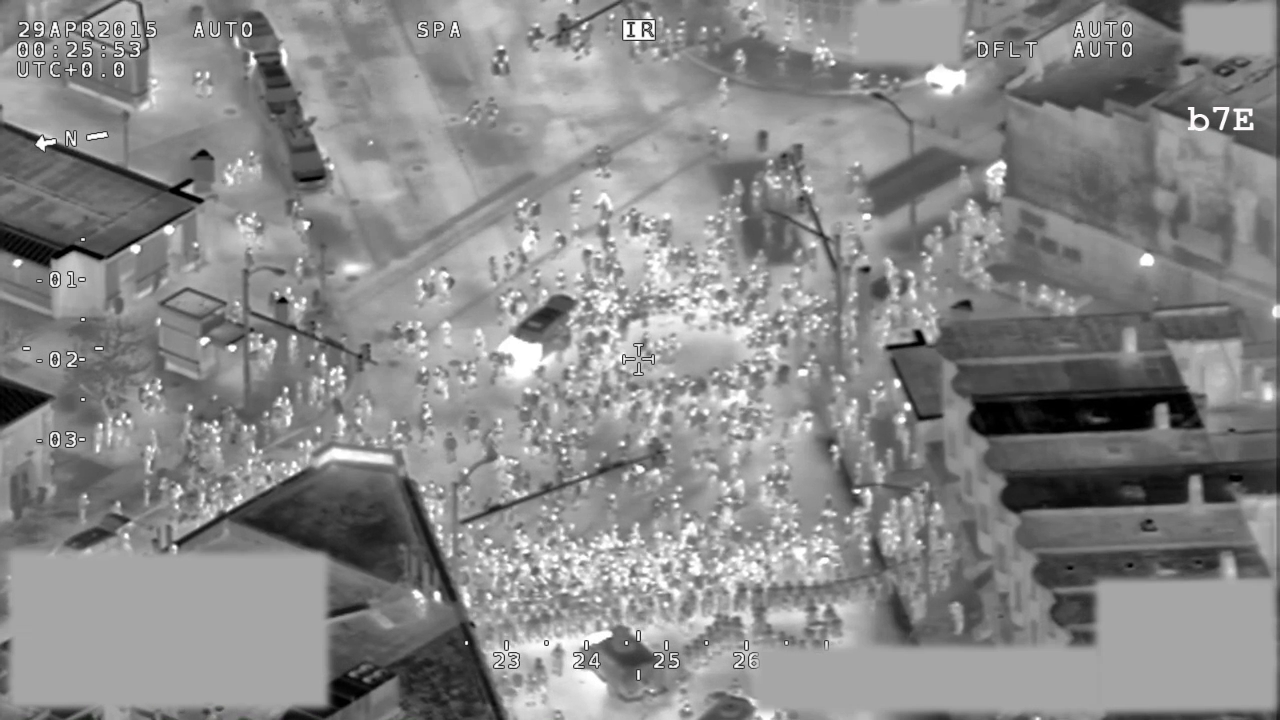vehicle: (490, 293, 583, 384), (276, 117, 332, 198), (925, 40, 995, 97), (226, 5, 289, 64), (251, 61, 307, 115)
